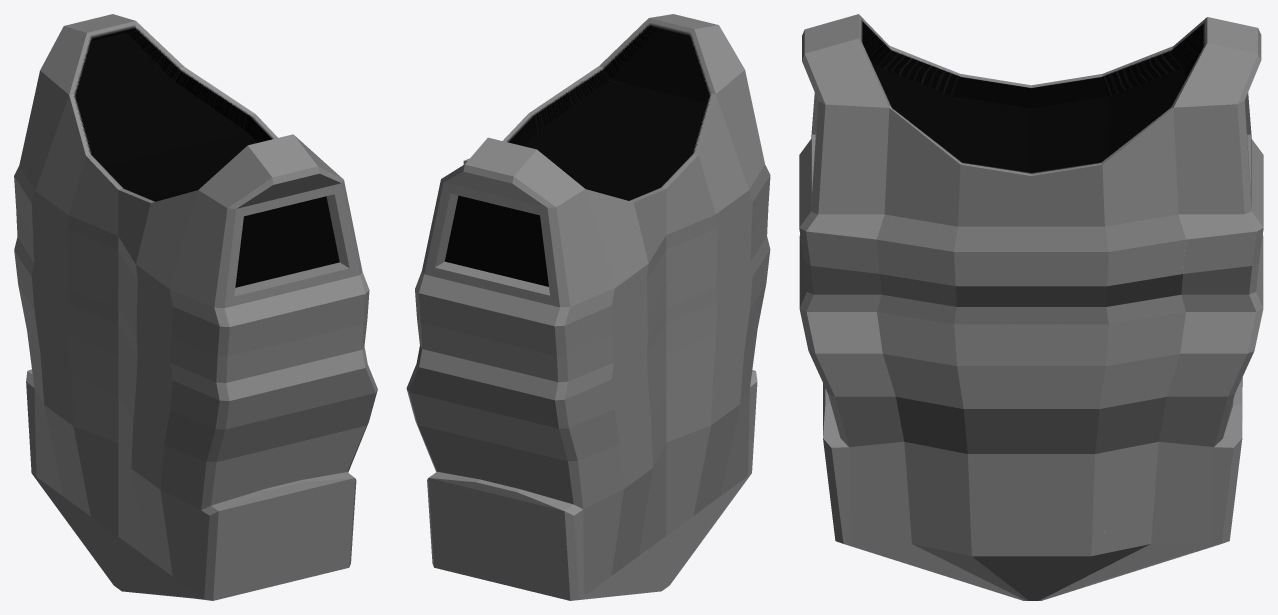
The model's file is Chestplate.fbx.
3 renders of one model, left to right at view 1: azimuth 30°, elevation 25°; view 2: azimuth 150°, elevation 25°; view 3: azimuth 270°, elevation 25°, orthographic. The views are drawn at different scales.
Visible parts, largest first — view 1: Cube; view 2: Cube; view 3: Cube.
Part boxes in pixels (x1=…): Cube: x1=14, y1=14, x2=377, y2=600; Cube: x1=406, y1=14, x2=770, y2=600; Cube: x1=799, y1=14, x2=1263, y2=600.
Bounding box in the file's own units: 276 × 636 × 500.
1 material, 1 textured.
